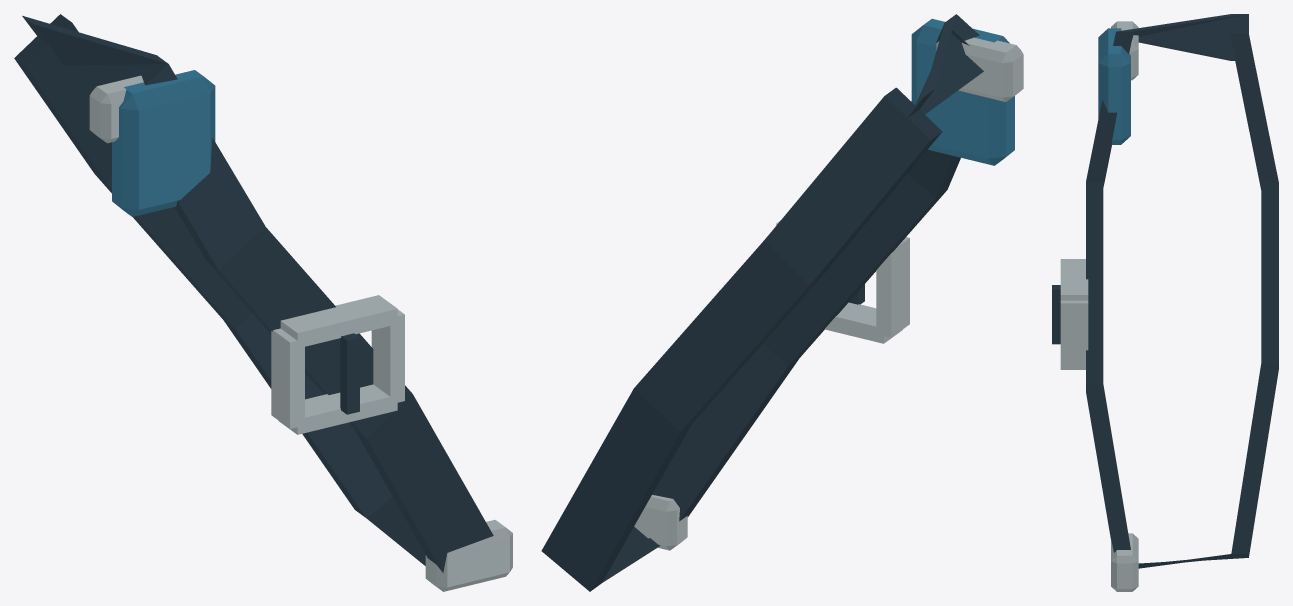
The model's file is milo_md_strap.glb.
3 views of the same model, side by side, from view 1: azimuth 30°, elevation 25°; view 2: azimuth 150°, elevation 25°; view 3: azimuth 270°, elevation 25° (orthographic). The views are drawn at different scales.
Parts seen in each view (by area): view 1: milo_md_strap; view 2: milo_md_strap; view 3: milo_md_strap.
Boxes of the visible parts, x1,y1,x2,y2 form: milo_md_strap: (14,14,512,591); milo_md_strap: (541,14,1023,591); milo_md_strap: (1052,14,1278,591).
Bounding box in the file's own units: 0.7249 × 1 × 0.4686.
